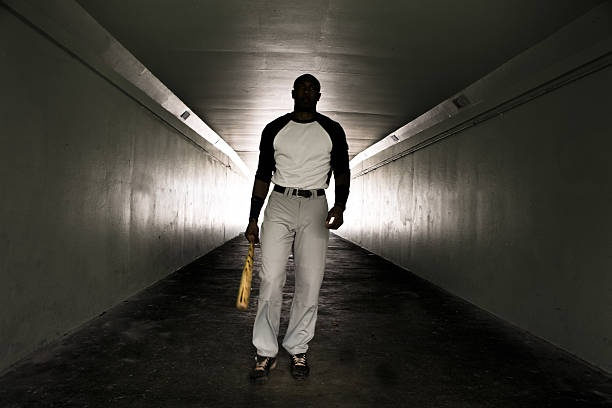bita: (233, 223, 260, 315)
